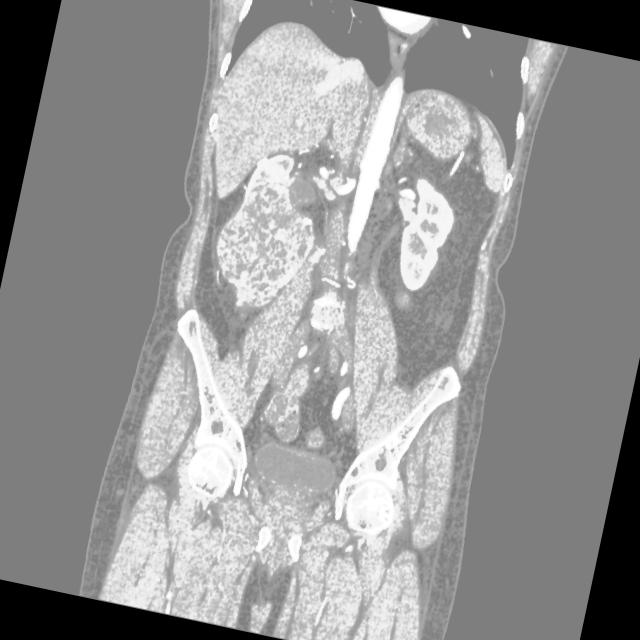TUMOR: (172, 158, 467, 315)
